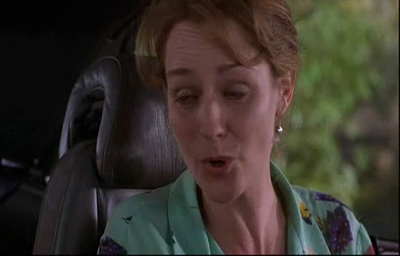cu: (1, 1, 400, 256)
face: (167, 41, 272, 204)
person: (96, 1, 374, 254)
